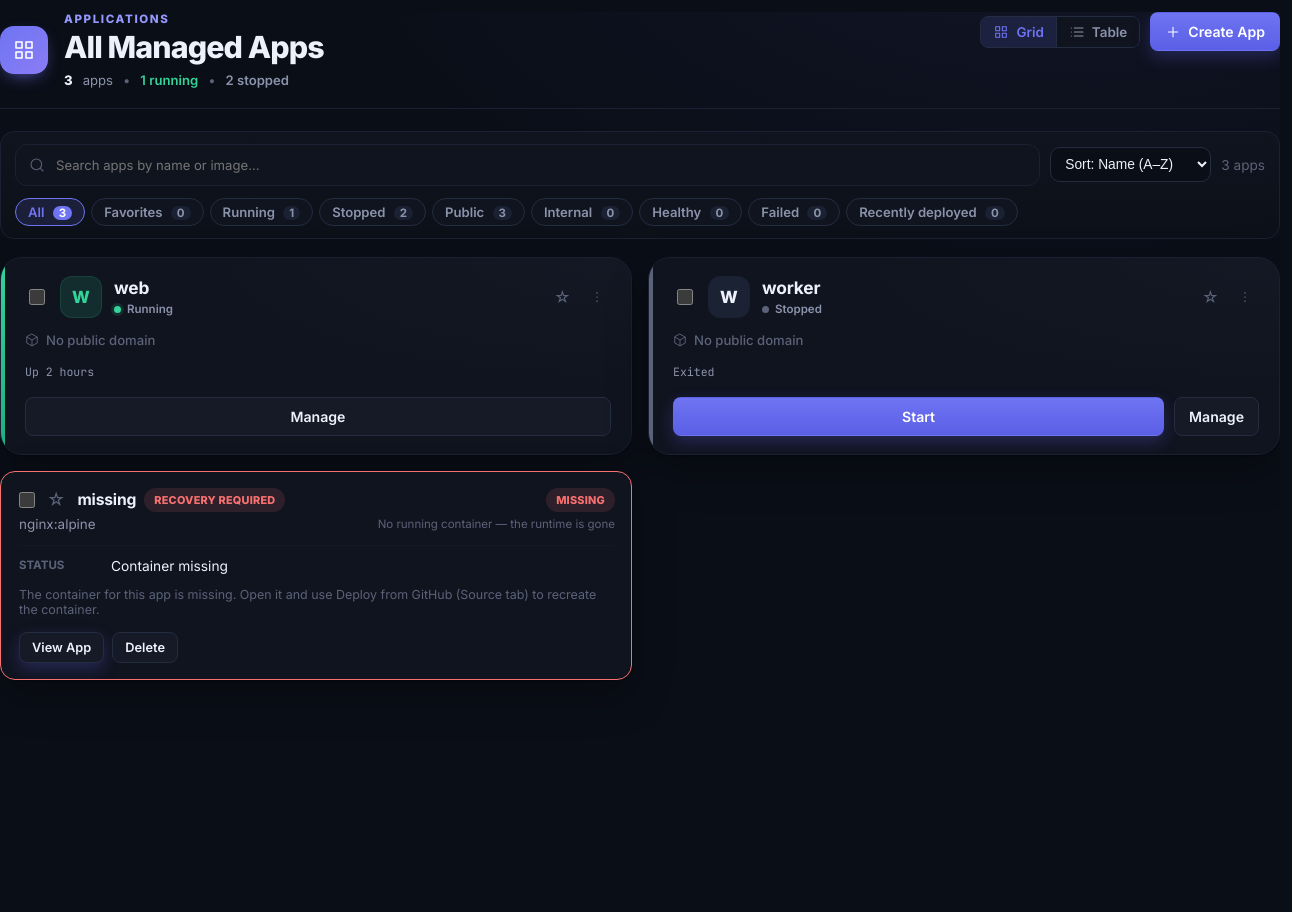
AppsPage — bulk actions › selection is also available in grid view
Click the checkbox named "Select web" at (37, 297), box [29, 289, 45, 305]
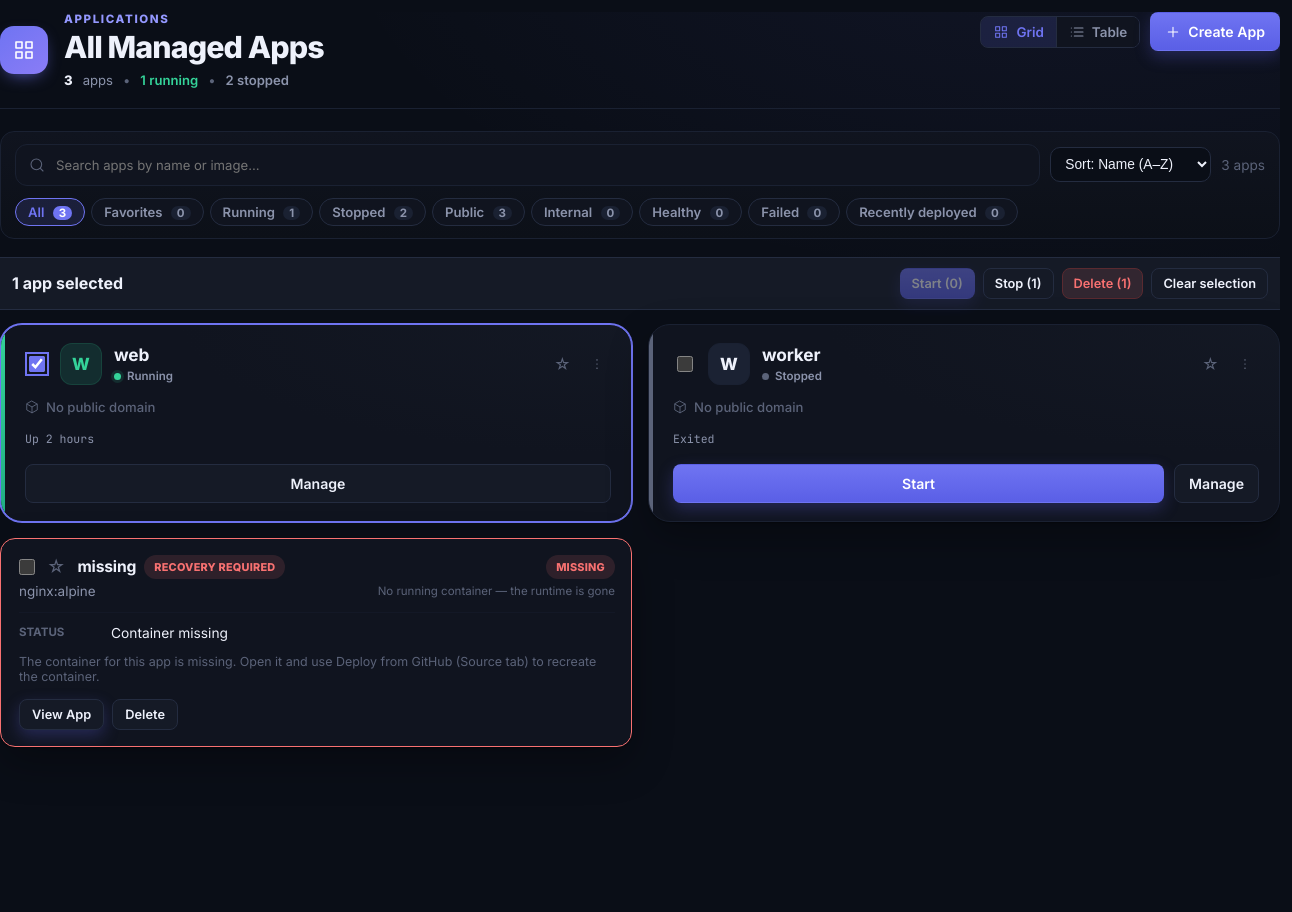
Now the text "1 app selected" is shown, box [12, 273, 123, 293]
